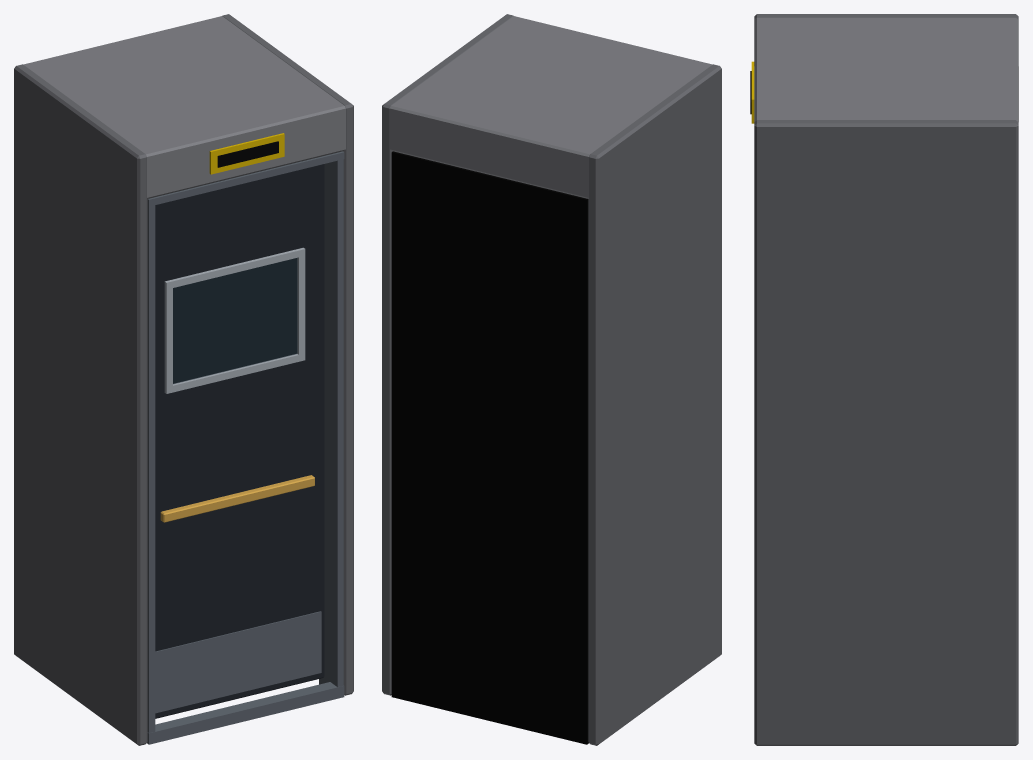
Rendered from roof_door.glb.
3 views of the same model, side by side, from view 1: azimuth 30°, elevation 25°; view 2: azimuth 150°, elevation 25°; view 3: azimuth 270°, elevation 25° (orthographic). The views are drawn at different scales.
Visible parts, largest first — view 1: roof_door, door; view 2: roof_door; view 3: roof_door.
Part boxes in pixels (x1,y1,x2,y2): roof_door: [14, 14, 353, 745]; door: [155, 164, 324, 718]; roof_door: [382, 14, 721, 745]; roof_door: [750, 14, 1018, 745].
Size of the model in its own units: 1 by 2.6 by 1.02.
